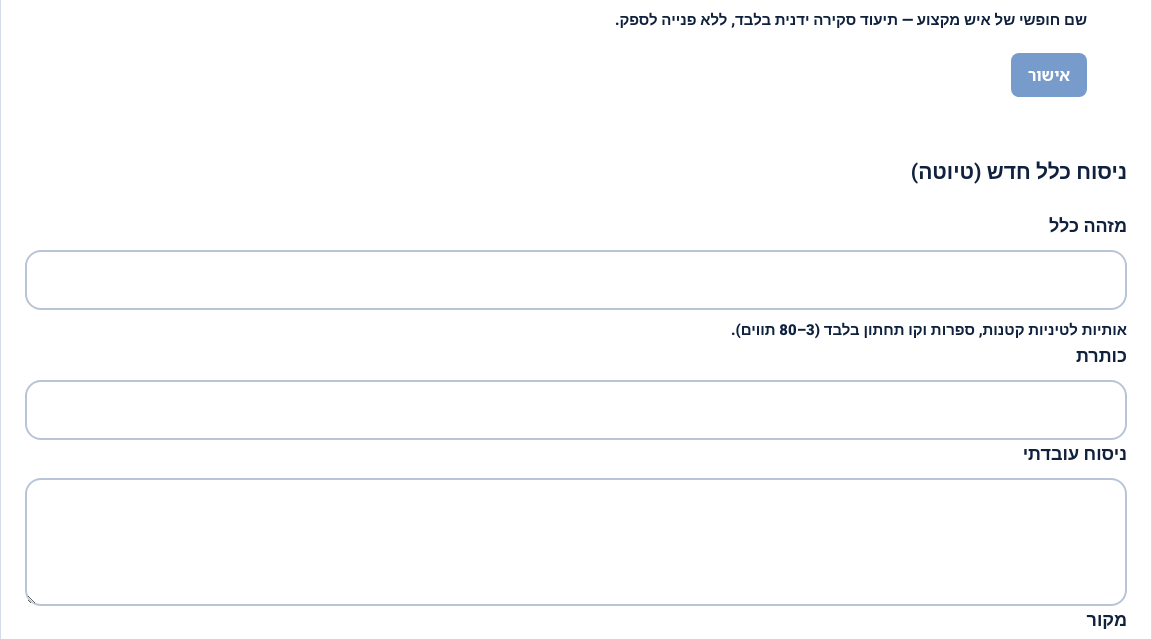
RegulationRulesAdmin › creates a draft through the authoring form
(page scrolled)
In the 2nd field: (576, 280) x1=25 y1=250 x2=1127 y2=310, type "synthetic_new_rule"
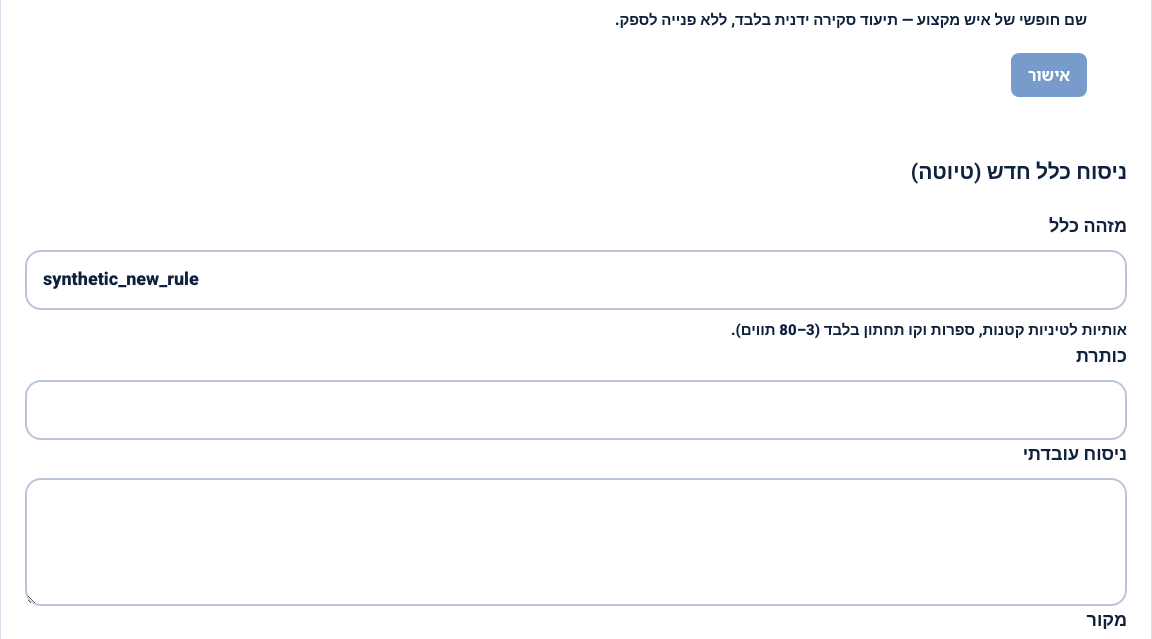
In the field labelled "כותרת": (576, 410) x1=25 y1=380 x2=1127 y2=440, type "Synthetic drafted rule"
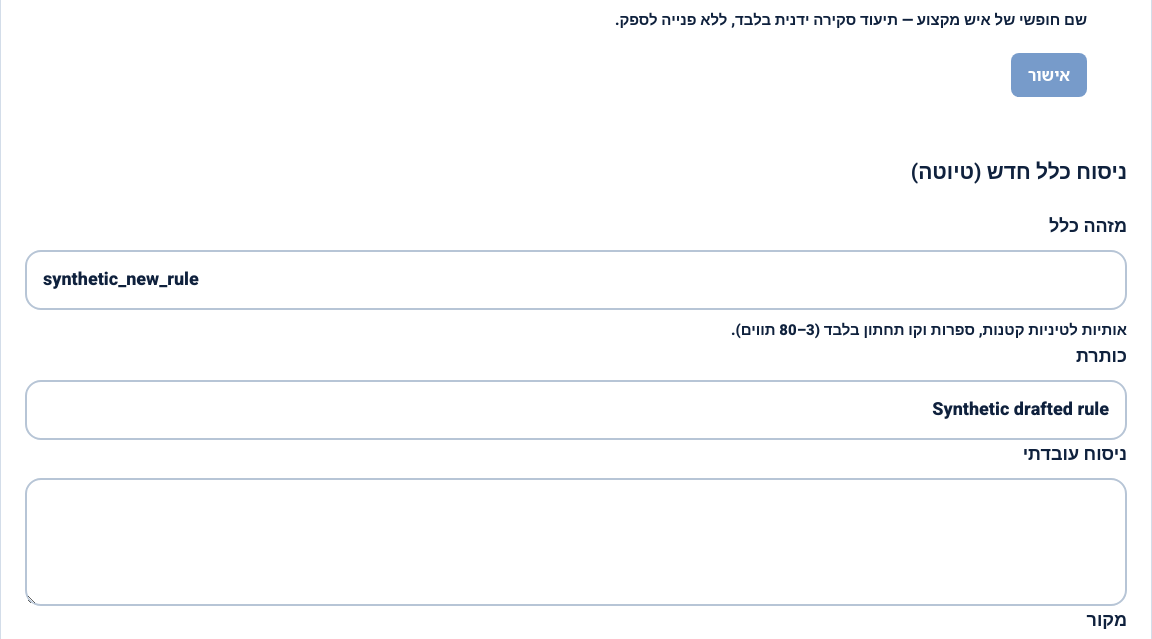
In the text box labelled "ניסוח עובדתי": (576, 542) x1=25 y1=478 x2=1127 y2=606, type "A synthetic conservative factual statement."
(page scrolled)
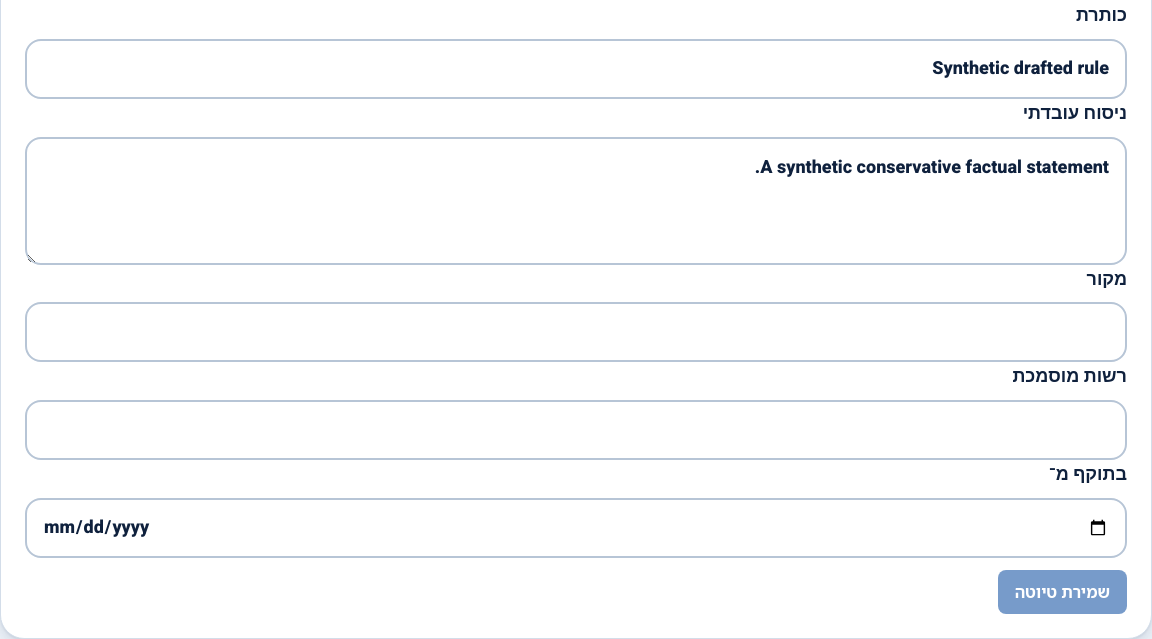
In the field labelled "מקור": (576, 332) x1=25 y1=302 x2=1127 y2=362, type "Synthetic citation"
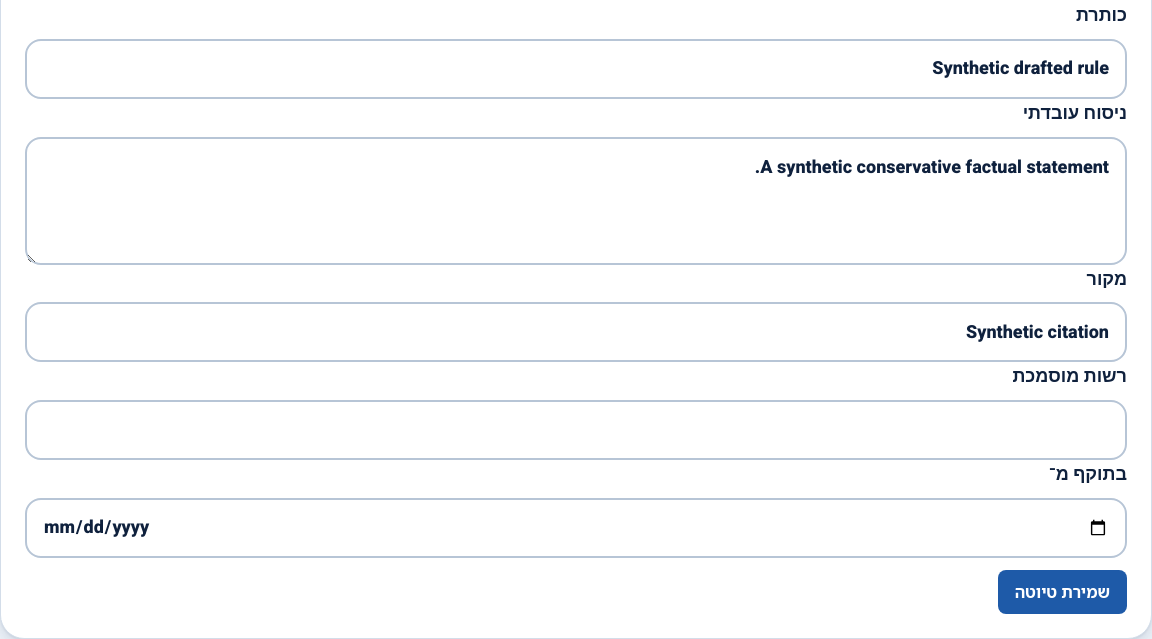
Now the button "שמירת טיוטה" is enabled
Click the button "שמירת טיוטה": (1062, 592) x1=998 y1=570 x2=1127 y2=614
(page scrolled)
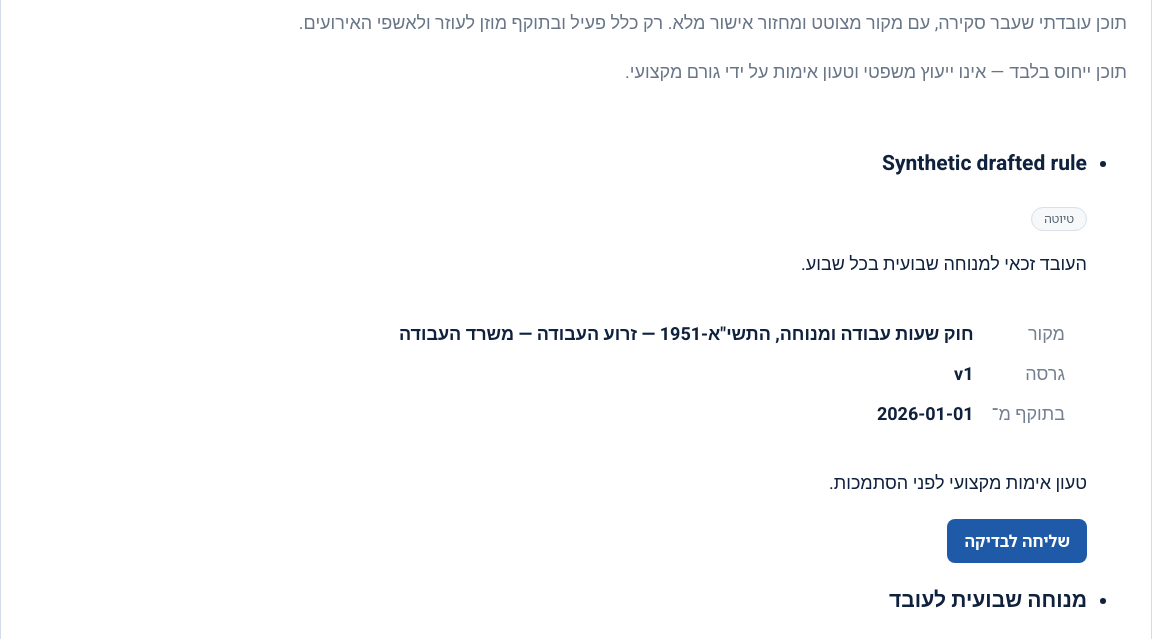
Now the heading "Synthetic drafted rule" is shown, box x1=882 y1=148 x2=1087 y2=179
